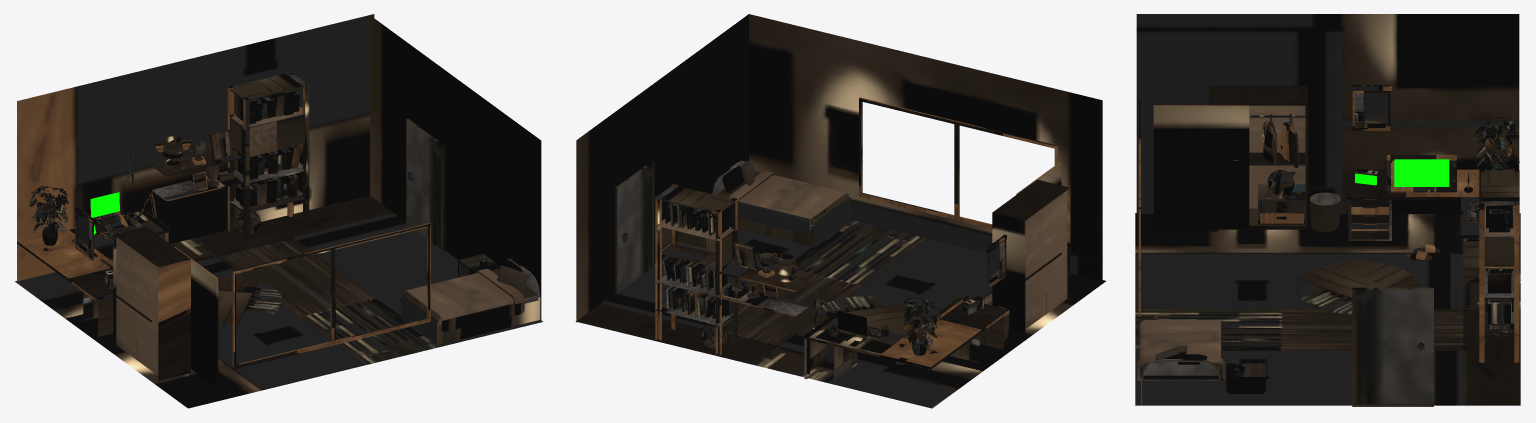
File: RoomScene.gltf
3 renders of one model, left to right at view 1: azimuth 30°, elevation 25°; view 2: azimuth 150°, elevation 25°; view 3: azimuth 270°, elevation 25°, orthographic. The views are drawn at different scales.
Visible parts, largest first — view 1: WallsF, Floor, WallsB, CupBoard, Bed, Bookshelf2, Darwaaza, BOUKS, Desk2, Sil, Mat, ShelfUpper (+7 smaller); view 2: WallsB, Floor, CupBoard, Bed, Bookshelf2, Desk2, Darwaaza, BOUKS, Sil, SideDesk, Mat, ShelfUpper (+5 smaller); view 3: WallsF, Floor, CupBoard, Darwaaza, Bed, Bookshelf2, Mat, Desk2, SideDesk, BOUKS, Calendar, TabScreen (+7 smaller).
Part boxes in pixels (bbox=[...]): WallsF: bbox=[17, 14, 374, 281]; Floor: bbox=[15, 195, 542, 408]; WallsB: bbox=[370, 15, 541, 320]; CupBoard: bbox=[113, 226, 218, 389]; Bed: bbox=[401, 254, 540, 344]; Bookshelf2: bbox=[227, 71, 309, 243]; Darwaaza: bbox=[406, 119, 445, 250]; BOUKS: bbox=[235, 90, 301, 206]; Desk2: bbox=[17, 210, 169, 300]; Sil: bbox=[232, 223, 430, 369]; Mat: bbox=[217, 277, 282, 324]; ShelfUpper: bbox=[152, 150, 241, 200]; WallsB: bbox=[576, 14, 1102, 322]; Floor: bbox=[575, 220, 1105, 408]; CupBoard: bbox=[992, 162, 1070, 340]; Bed: bbox=[712, 160, 850, 247]; Bookshelf2: bbox=[655, 183, 737, 355]; Desk2: bbox=[802, 298, 1009, 369]; Darwaaza: bbox=[615, 160, 654, 293]; BOUKS: bbox=[663, 202, 729, 319]; Sil: bbox=[859, 97, 1057, 228]; SideDesk: bbox=[804, 316, 1004, 381]; Mat: bbox=[810, 295, 922, 335]; ShelfUpper: bbox=[719, 261, 808, 316]; WallsF: bbox=[1136, 14, 1519, 213]; Floor: bbox=[1135, 213, 1520, 405]; CupBoard: bbox=[1153, 85, 1340, 232]; Darwaaza: bbox=[1352, 287, 1433, 406]; Bed: bbox=[1137, 320, 1265, 405]; Bookshelf2: bbox=[1479, 169, 1519, 362]; Mat: bbox=[1295, 261, 1419, 314]; Desk2: bbox=[1345, 169, 1511, 241]; SideDesk: bbox=[1348, 199, 1479, 282]; BOUKS: bbox=[1486, 206, 1513, 323]; Calendar: bbox=[1351, 85, 1391, 130]; TabScreen: bbox=[1394, 159, 1449, 186].
Size of the model in its own units: 7.29 by 3.54 by 6.12.
